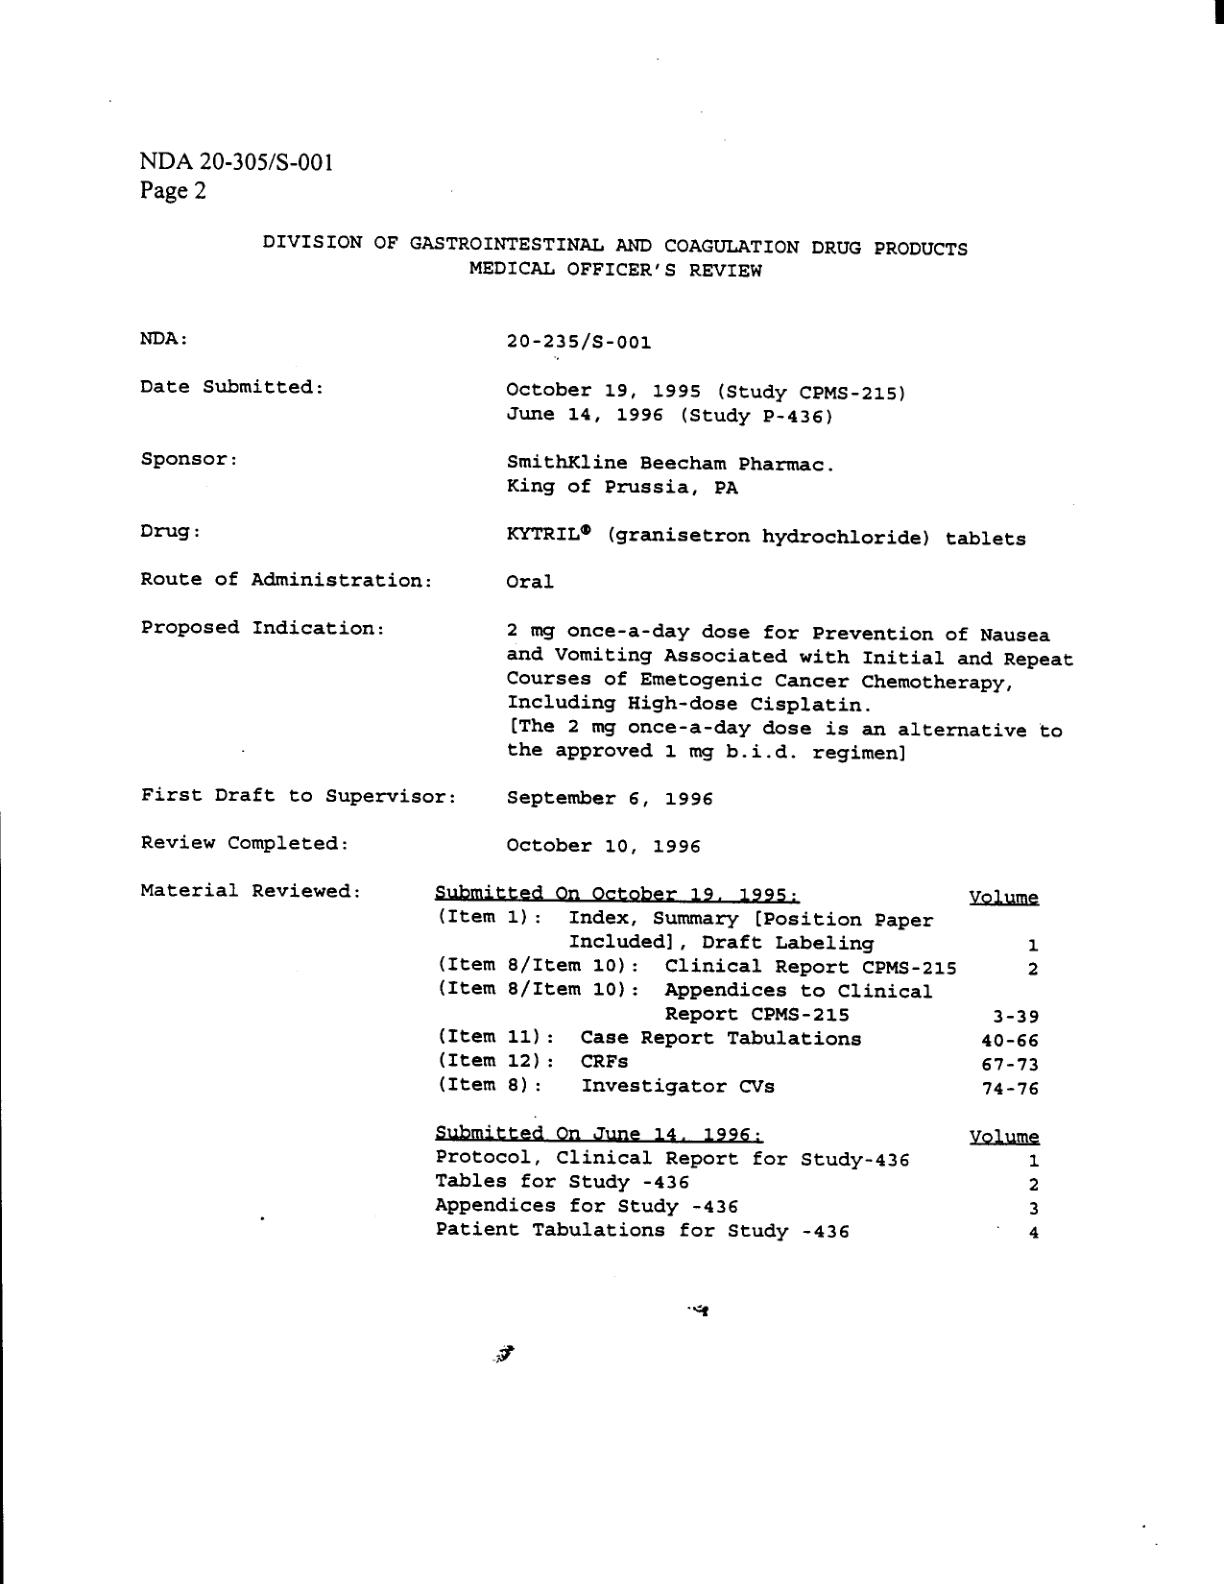nolines: (134, 324, 1072, 854), (136, 877, 1044, 1242)
